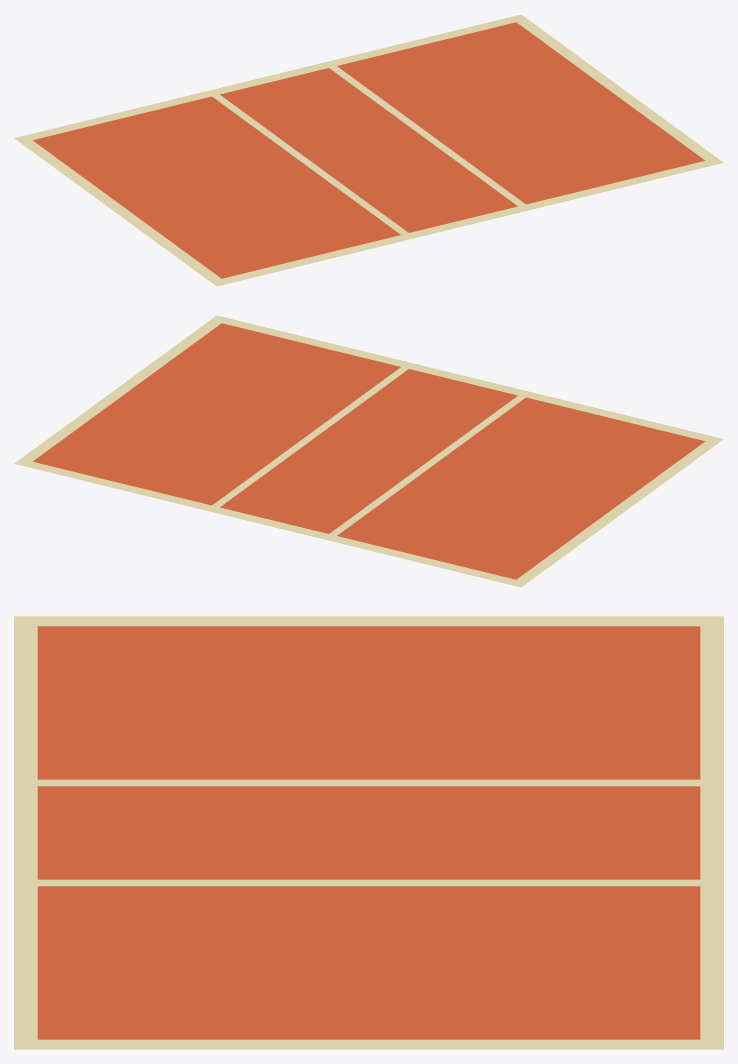
File: SM_GameTerrain_001.fbx
3 renders of one model, top to bottom at view 1: azimuth 30°, elevation 25°; view 2: azimuth 150°, elevation 25°; view 3: azimuth 270°, elevation 25°, orthographic. The views are drawn at different scales.
Visible parts, largest first — view 1: GameTerrain_001; view 2: GameTerrain_001; view 3: GameTerrain_001.
Part boxes in pixels (box(x1,y1,x2,y2)): GameTerrain_001: box(14, 14, 723, 286); GameTerrain_001: box(14, 315, 723, 587); GameTerrain_001: box(14, 616, 723, 1049).
Bounding box in the file's own units: 1300 × 0 × 900.
1 material, 1 textured.
